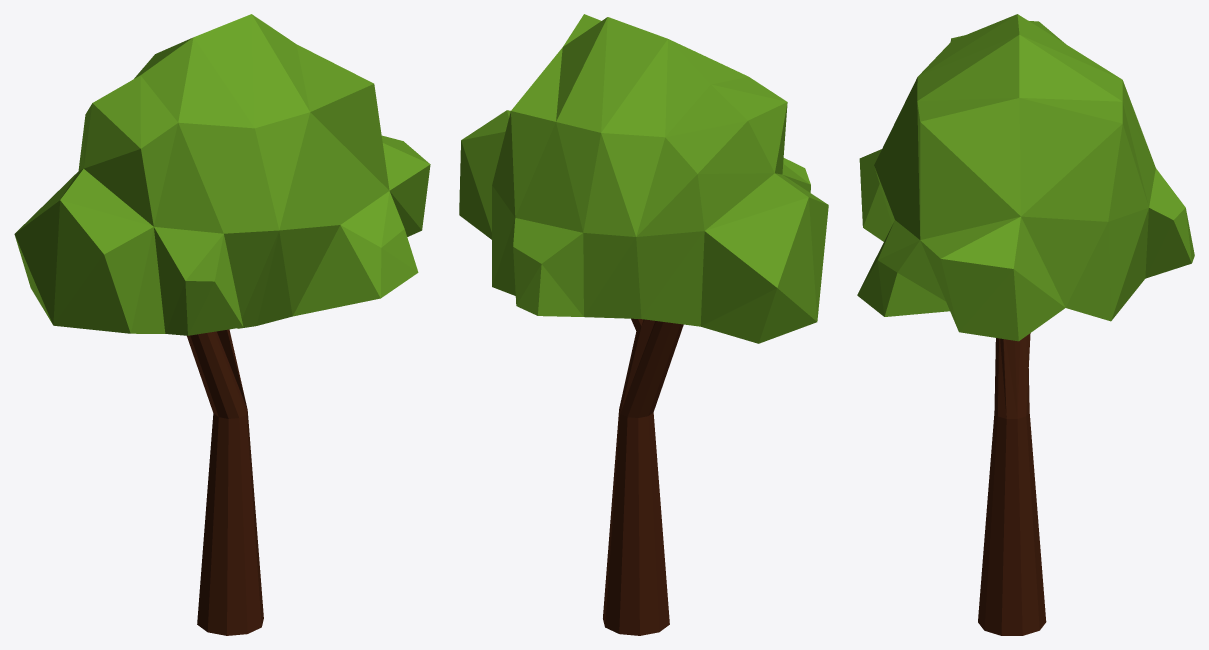
The model's file is tree2.obj.
3 renders of one model, left to right at view 1: azimuth 30°, elevation 25°; view 2: azimuth 150°, elevation 25°; view 3: azimuth 270°, elevation 25°, orthographic.
Parts seen in each view (by area): view 1: tree2.003; view 2: tree2.003; view 3: tree2.003.
Boxes of the visible parts, box(x1,y1,x2,y2) form: tree2.003: box(14, 14, 430, 635); tree2.003: box(459, 14, 828, 635); tree2.003: box(857, 14, 1194, 635).
Bounding box in the file's own units: 3.84 × 6.24 × 3.19.
